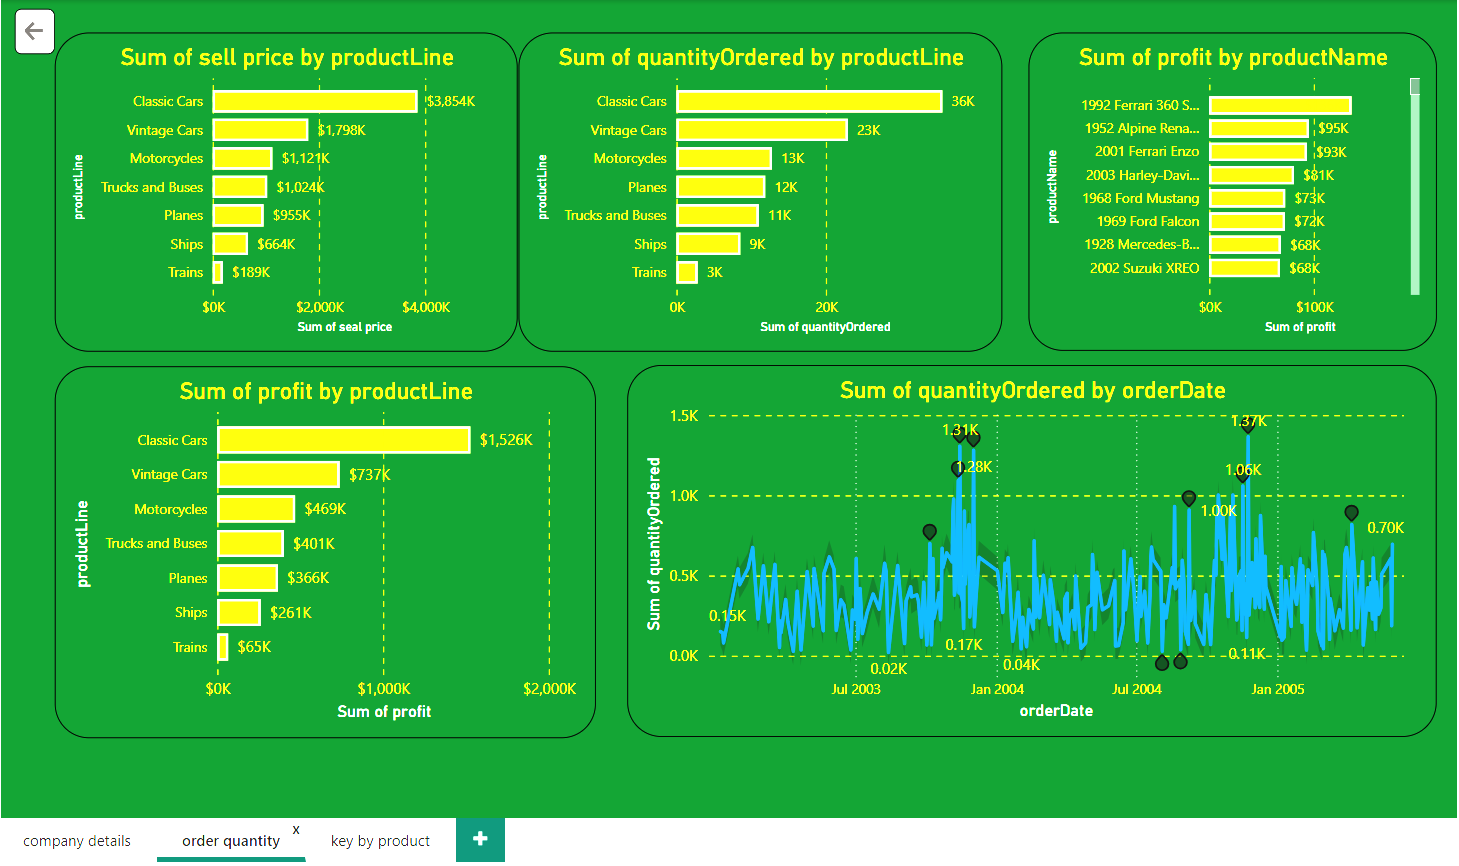

The page's visual inventory and layout, read from the dashboard file:
{"tool":"powerbi","page":{"name":"order quantity","canvas":[1280,720],"ordinal":1},"visuals":[{"type":"barChart","fields":{"Category":["products.productLine"],"Y":["Sum(order details.seal price)"]},"box":[47.6,28,407.3,280.5],"z":0},{"type":"barChart","fields":{"Category":["products.productLine"],"Y":["Sum(order details.profit)"]},"box":[47.6,322,475.6,326.8],"z":1000},{"type":"barChart","fields":{"Category":["products.productLine"],"Y":["Sum(order details.quantityOrdered)"]},"box":[454.9,28,425.6,280.5],"z":2000},{"type":"barChart","fields":{"Category":["products.productName"],"Y":["Sum(order details.profit)"]},"box":[903.7,28,280.5,280.5],"z":3000},{"type":"lineChart","fields":{"Y":["Sum(order details.quantityOrdered)"],"Category":["orders.orderDate"]},"box":[551.2,321.4,711.9,327.4],"z":4000},{"type":"actionButton","box":[12.2,7.3,35.4,40.2],"z":5000}]}

Visuals, with their boxes on the page's 1280x720 design canvas (x1, y1, x2, y2). These are canvas units, not pixel positions in the 1459x866 screenshot, which may show the page scaled, cropped or inside an application window:
barChart - products.productLine x Sum(order details.seal price): 48, 28, 455, 308
barChart - products.productLine x Sum(order details.profit): 48, 322, 523, 649
barChart - products.productLine x Sum(order details.quantityOrdered): 455, 28, 880, 308
barChart - products.productName x Sum(order details.profit): 904, 28, 1184, 308
lineChart - Sum(order details.quantityOrdered) x orders.orderDate: 551, 321, 1263, 649
actionButton: 12, 7, 48, 48
